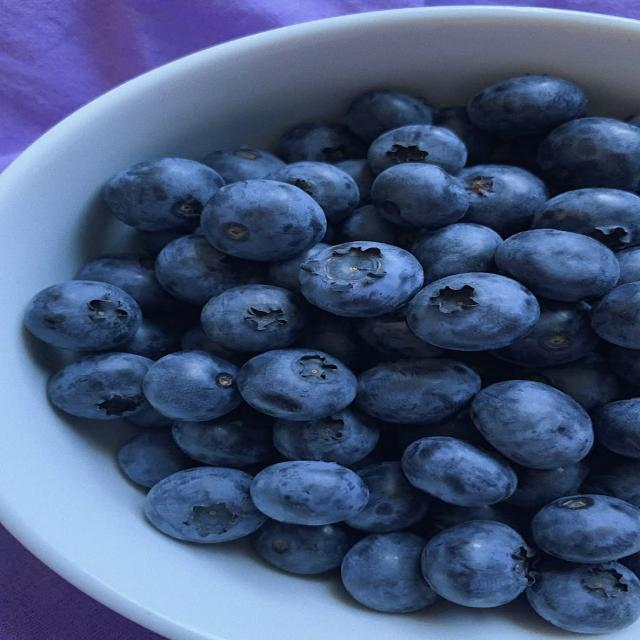blueberry: (471, 380, 593, 469), (407, 273, 539, 351), (202, 180, 326, 262), (421, 521, 534, 607), (300, 242, 423, 317), (146, 467, 266, 543), (495, 229, 619, 301), (104, 158, 224, 230), (238, 349, 357, 421), (526, 559, 639, 633), (25, 281, 141, 350), (357, 359, 480, 423), (402, 437, 516, 506), (341, 532, 437, 612), (155, 235, 262, 305), (251, 461, 368, 525), (532, 495, 639, 563), (538, 118, 639, 190), (467, 76, 586, 136), (493, 299, 599, 366), (201, 285, 305, 353), (48, 353, 153, 419), (143, 351, 241, 421), (533, 189, 639, 251), (457, 165, 547, 236), (372, 163, 469, 228), (173, 407, 276, 467), (274, 408, 379, 465), (347, 461, 431, 532), (77, 254, 175, 313), (267, 162, 359, 222), (253, 520, 355, 574), (411, 223, 502, 283), (527, 354, 619, 411), (382, 409, 487, 458), (367, 125, 466, 173), (356, 306, 444, 358), (346, 90, 432, 141), (118, 431, 194, 487), (298, 309, 367, 370), (506, 461, 588, 507), (434, 107, 499, 164), (278, 121, 365, 163), (267, 243, 329, 294), (592, 282, 639, 349), (203, 147, 284, 183), (425, 501, 516, 532), (594, 398, 639, 458), (446, 351, 521, 387), (583, 459, 639, 507), (180, 326, 248, 365), (118, 319, 179, 360), (491, 133, 546, 174), (341, 205, 395, 244), (336, 158, 375, 205), (137, 225, 194, 255), (127, 404, 173, 431), (608, 346, 639, 386), (616, 247, 639, 284), (619, 553, 639, 577), (322, 225, 339, 245), (625, 114, 639, 126)
